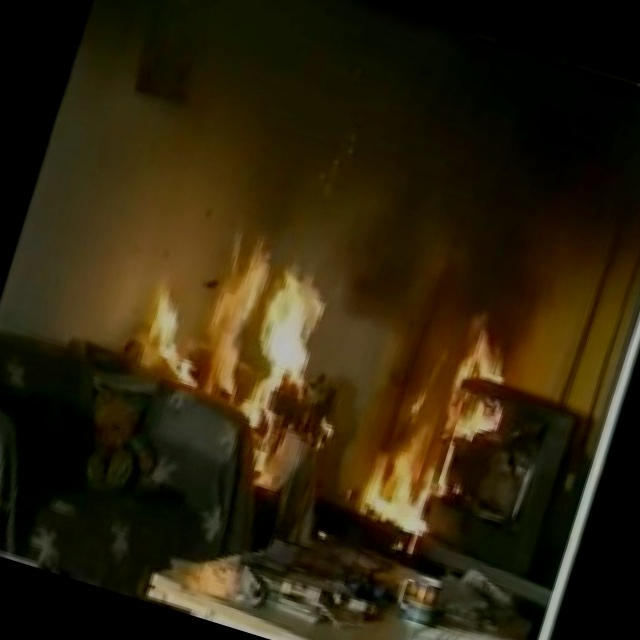fire: (103, 186, 545, 552)
